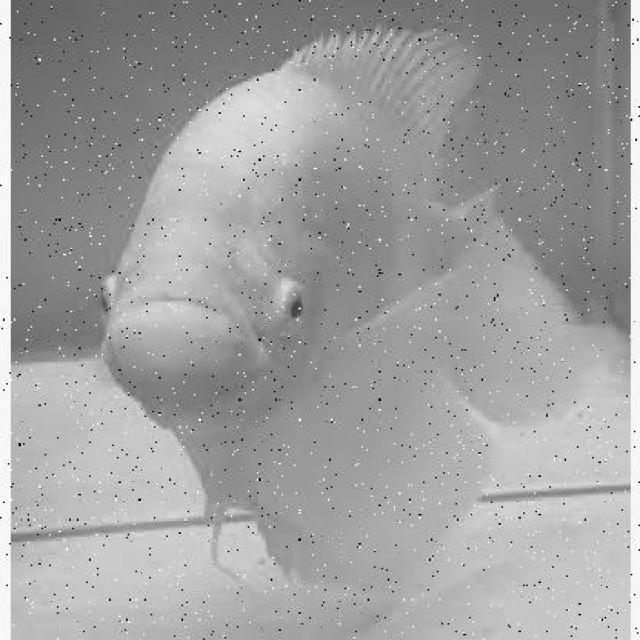gurame: (92, 36, 551, 579)
